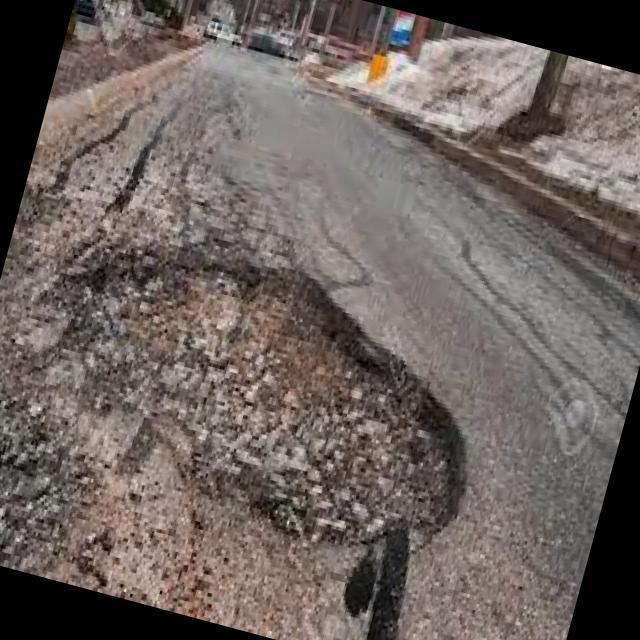pothole: (9, 248, 464, 554)
